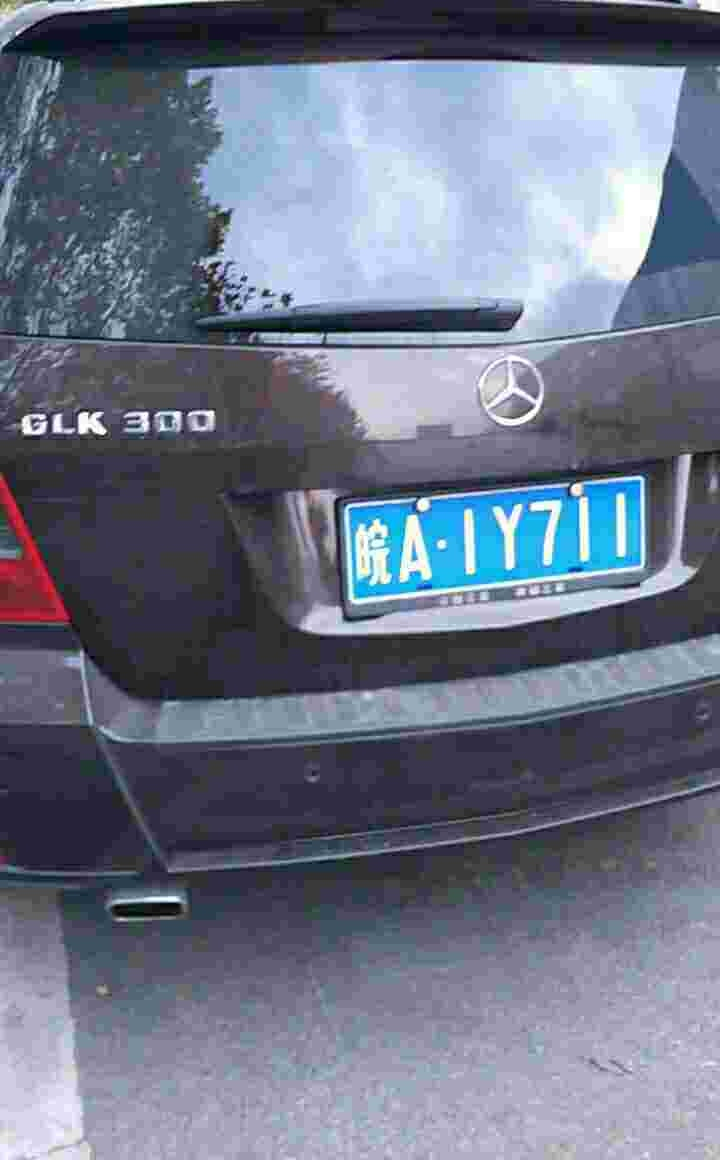license_plate: (350, 486, 633, 602)
